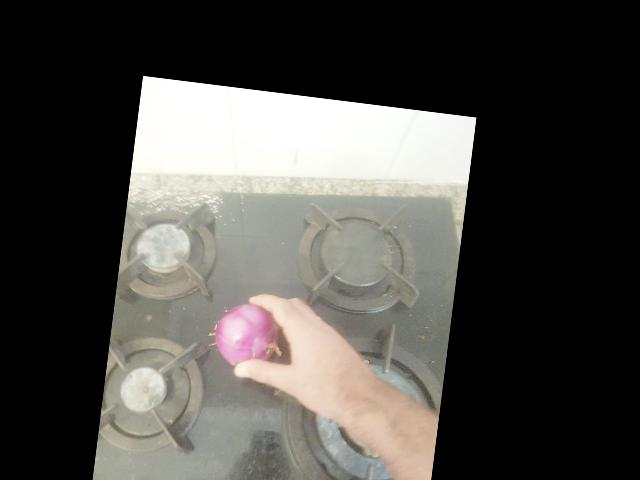onion: (173, 192, 251, 262)
